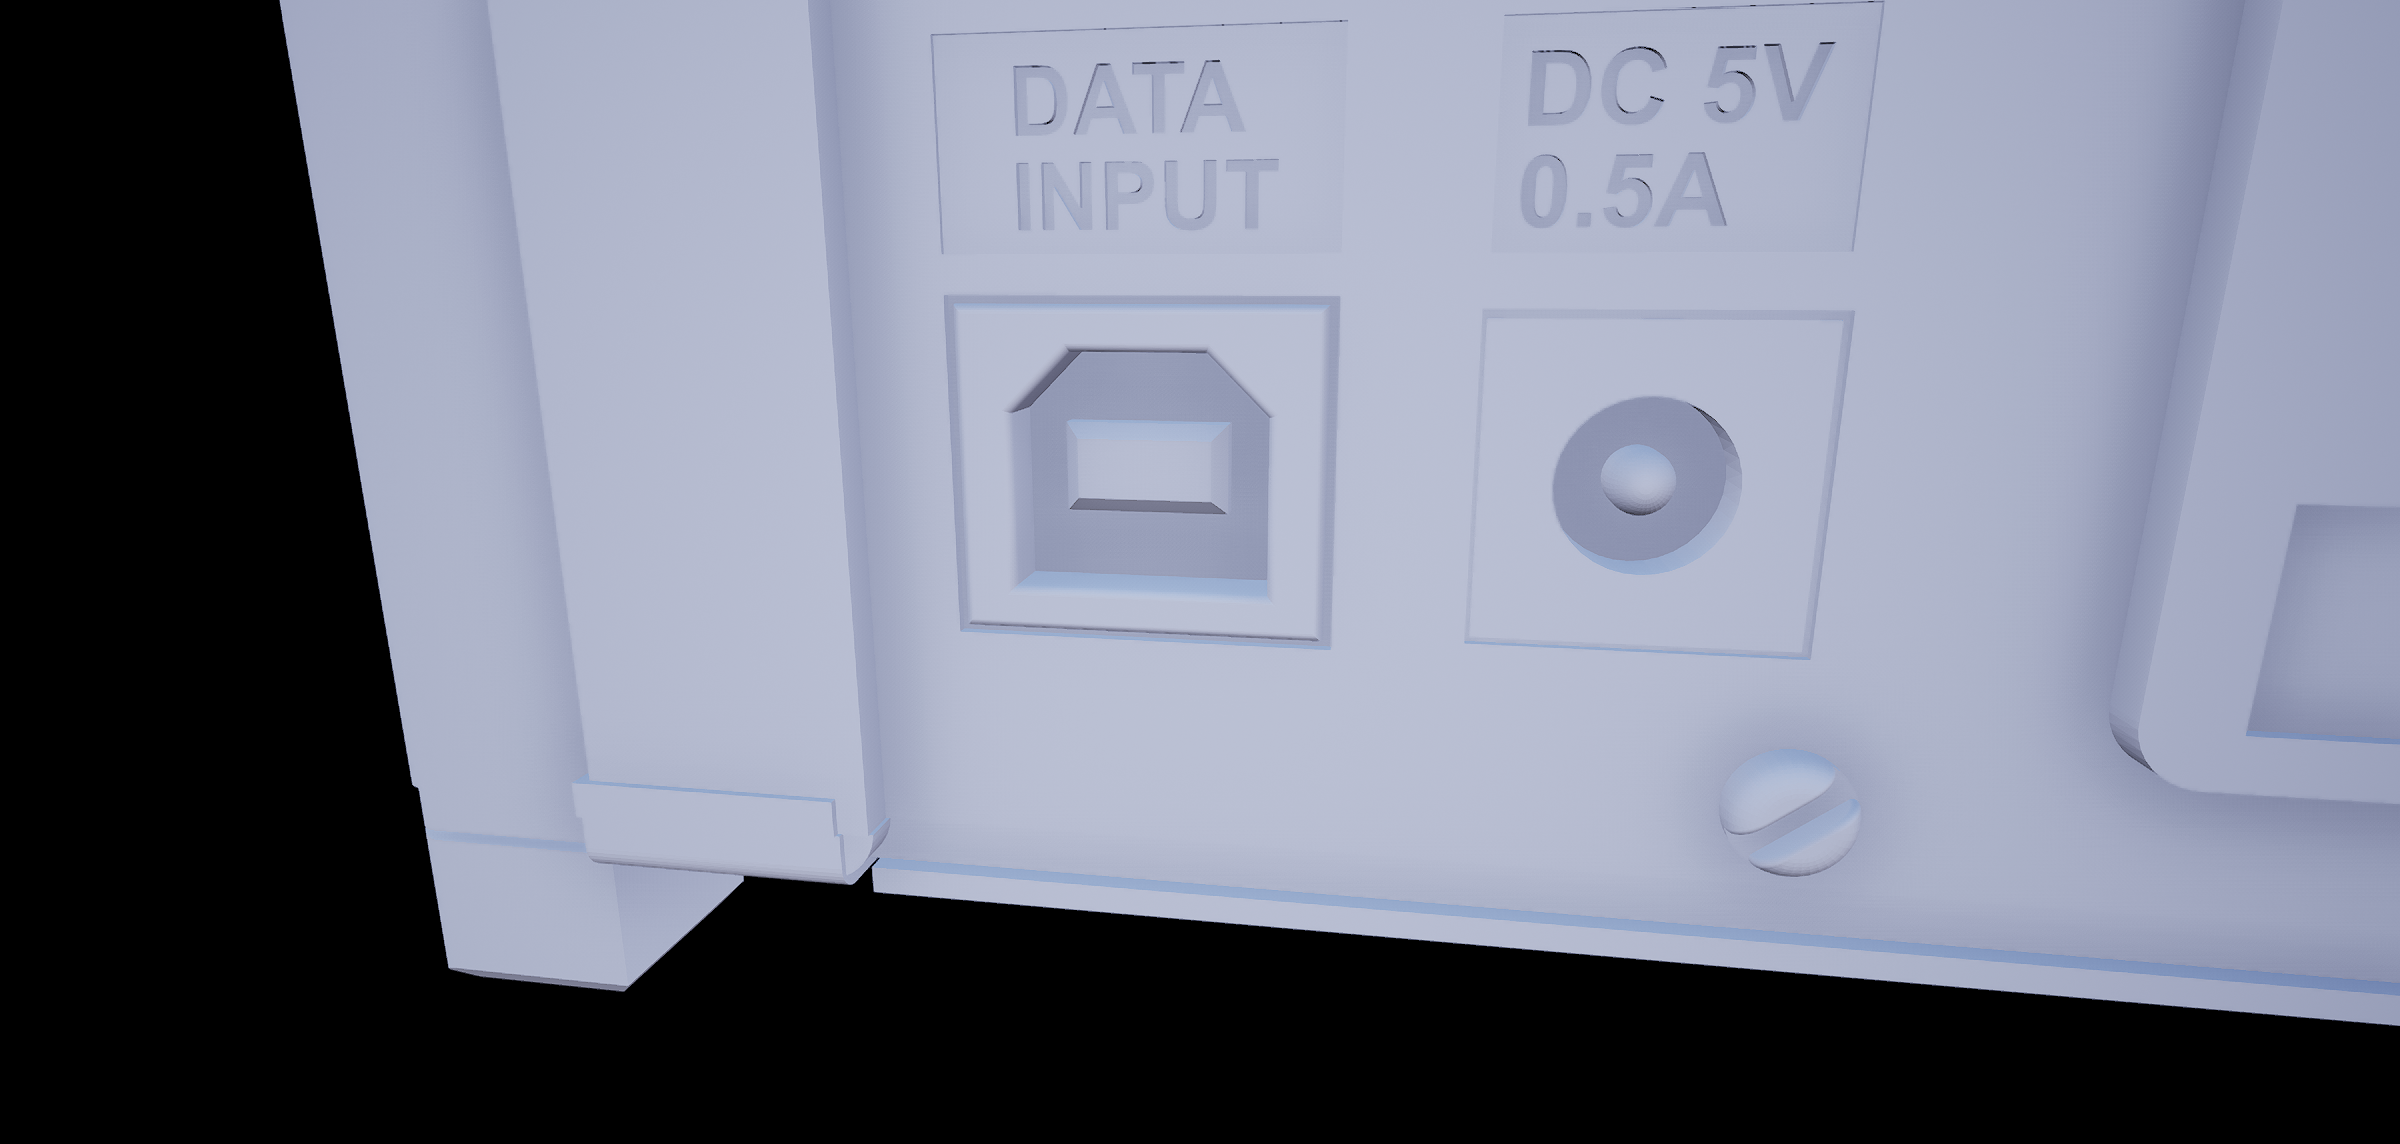dc: (1544, 377, 1745, 582)
usb: (986, 332, 1296, 611)
